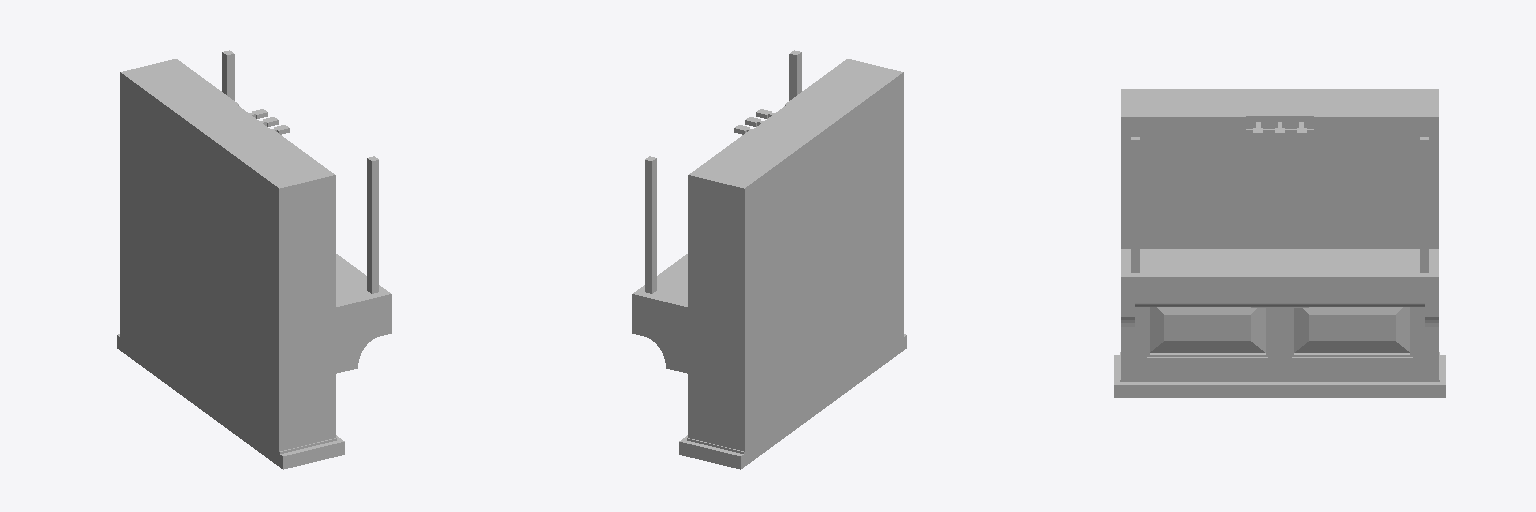
The model's file is Apartment_robot.obj.
3 renders of one model, left to right at view 1: azimuth 30°, elevation 25°; view 2: azimuth 150°, elevation 25°; view 3: azimuth 270°, elevation 25°, orthographic.
Parts seen in each view (by area): view 1: instance_0, instance_0-9, instance_0-8; view 2: instance_0, instance_0-8, instance_0-9; view 3: instance_0, instance_0-2, instance_0-3, instance_0-8, instance_0-9, instance_0-4, instance_0-25, instance_0-6, instance_0-7.
Boxes of the visible parts, x1,y1,x2,y2 form: instance_0: [117, 59, 391, 469]; instance_0-9: [367, 156, 378, 293]; instance_0-8: [222, 50, 234, 100]; instance_0: [632, 59, 906, 469]; instance_0-8: [645, 156, 656, 293]; instance_0-9: [789, 50, 801, 100]; instance_0: [1114, 89, 1445, 397]; instance_0-2: [1294, 307, 1409, 354]; instance_0-3: [1150, 307, 1265, 354]; instance_0-8: [1420, 137, 1428, 272]; instance_0-9: [1131, 137, 1139, 272]; instance_0-4: [1150, 286, 1400, 288]; instance_0-25: [1120, 352, 1439, 381]; instance_0-6: [1292, 307, 1412, 357]; instance_0-7: [1147, 307, 1267, 357].
Bounding box in the file's own units: 23.1 × 54.81 × 59.34.